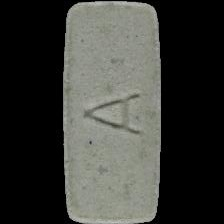60429-446: (0, 0, 224, 224)
